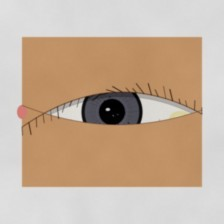pinguecula_lesion: (158, 101, 203, 136)
